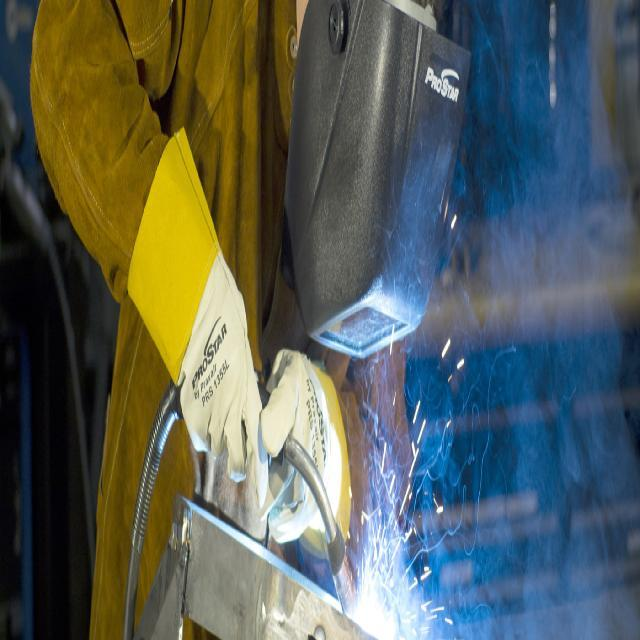with_helmet: (281, 0, 469, 358)
